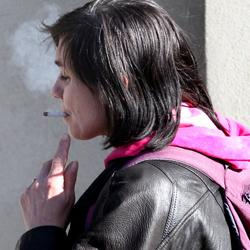smoking: (41, 109, 73, 121)
